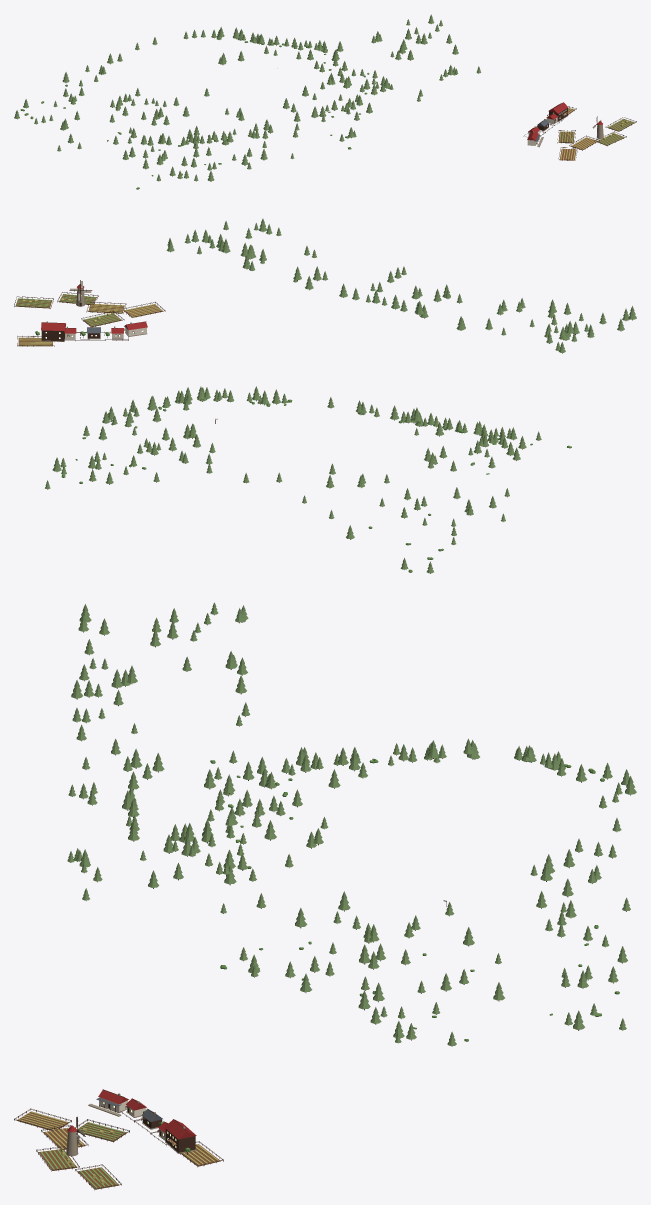
File: z3-col.glb
3 renders of one model, top to bottom at view 1: azimuth 30°, elevation 25°; view 2: azimuth 150°, elevation 25°; view 3: azimuth 270°, elevation 25°, orthographic. The views are drawn at different scales.
Parts seen in each view (by area): view 1: Z3_Vegetation_ConifersMountain_Needles, Z3_Vegetation_Conifers_Needles; view 2: Z3_Vegetation_ConifersMountain_Needles, Z3_Vegetation_Conifers_Needles; view 3: Z3_Vegetation_ConifersMountain_Needles, Z3_Vegetation_Conifers_Needles.
Part boxes in pixels (left/top/right/bottom): Z3_Vegetation_ConifersMountain_Needles: left=14, top=27, right=390, bottom=181; Z3_Vegetation_Conifers_Needles: left=123, top=14, right=480, bottom=145; Z3_Vegetation_ConifersMountain_Needles: left=45, top=386, right=541, bottom=573; Z3_Vegetation_Conifers_Needles: left=166, top=218, right=636, bottom=352; Z3_Vegetation_ConifersMountain_Needles: left=202, top=738, right=636, bottom=1045; Z3_Vegetation_Conifers_Needles: left=67, top=602, right=254, bottom=900.
Size of the model in its own units: 330 by 87.09 by 216.
